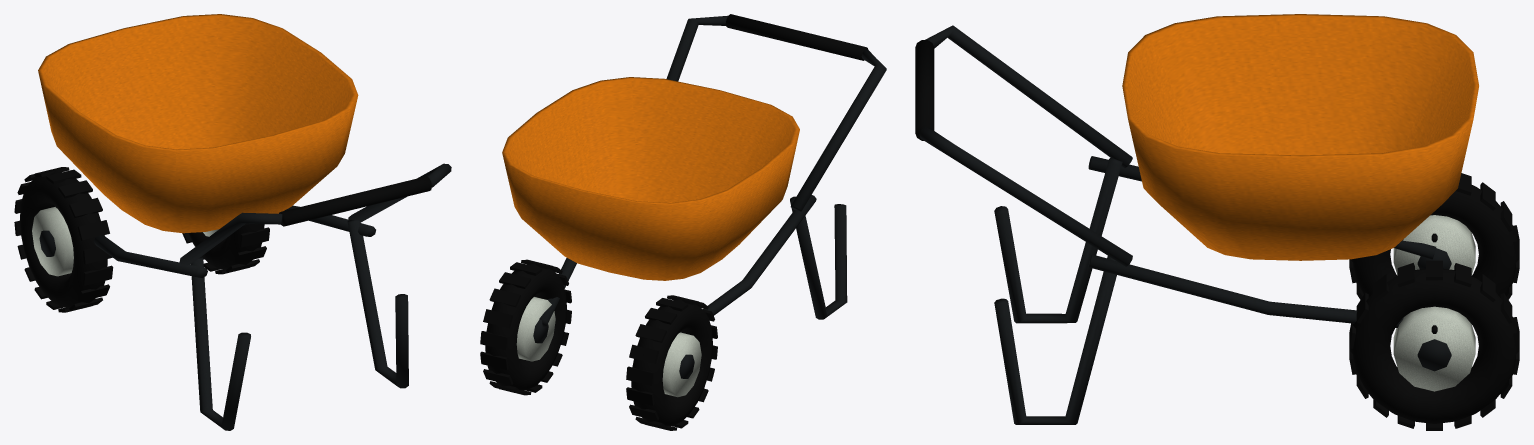
File: DualWheelbarrow.gltf
3 renders of one model, left to right at view 1: azimuth 30°, elevation 25°; view 2: azimuth 150°, elevation 25°; view 3: azimuth 270°, elevation 25°, orthographic. The views are drawn at different scales.
Visible parts, largest first — view 1: DualWheelbarrow__Body, DualWheelbarrow__Wheel_-1, DualWheelbarrow; view 2: DualWheelbarrow__Body, DualWheelbarrow__Wheel_-1, DualWheelbarrow; view 3: DualWheelbarrow__Body, DualWheelbarrow, DualWheelbarrow__Wheel_-1.
Part boxes in pixels (box(x1,y1,x2,y2)): DualWheelbarrow__Body: box(38, 14, 451, 430); DualWheelbarrow__Wheel_-1: box(14, 167, 113, 312); DualWheelbarrow: box(182, 223, 269, 274); DualWheelbarrow__Body: box(502, 14, 886, 332); DualWheelbarrow__Wheel_-1: box(626, 295, 717, 430); DualWheelbarrow: box(480, 259, 571, 395); DualWheelbarrow__Body: box(915, 14, 1478, 424); DualWheelbarrow: box(1349, 260, 1519, 430); DualWheelbarrow__Wheel_-1: box(1349, 173, 1519, 299).
Bounding box in the file's own units: 0.784 × 0.748 × 1.39.
Materials: 1 (1 with a texture image).
